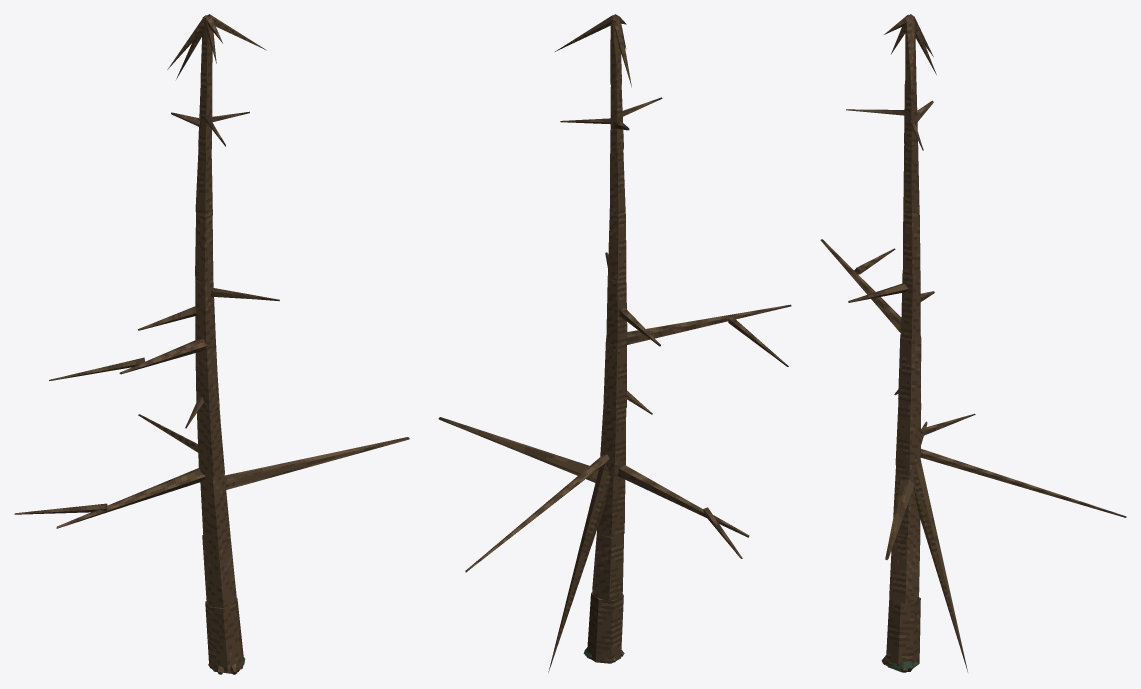
The model's file is snag_06.glb.
3 views of the same model, side by side, from view 1: azimuth 30°, elevation 25°; view 2: azimuth 150°, elevation 25°; view 3: azimuth 270°, elevation 25° (orthographic).
Parts seen in each view (by area): view 1: snag_06; view 2: snag_06; view 3: snag_06.
Boxes of the visible parts, x1,y1,x2,y2 form: snag_06: [14, 14, 409, 674]; snag_06: [438, 14, 791, 672]; snag_06: [820, 14, 1126, 672].
Bounding box in the file's own units: 4.49 × 7.9 × 3.4.
2 materials, 2 textured.
